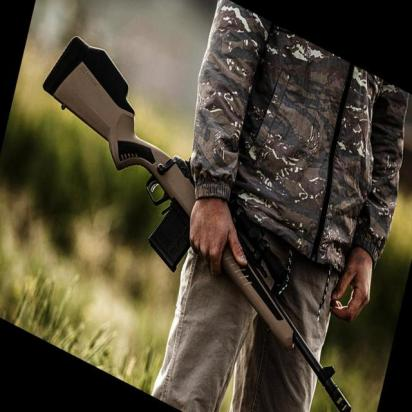Gun: (54, 50, 372, 408)
